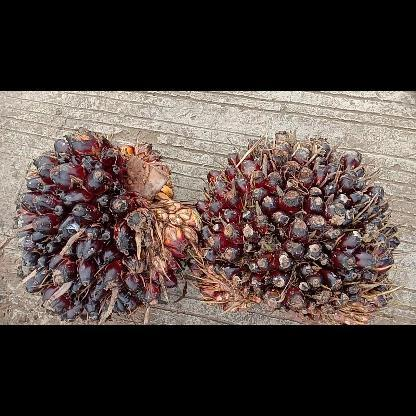TBS mentah: (186, 128, 402, 324), (15, 129, 198, 324)
